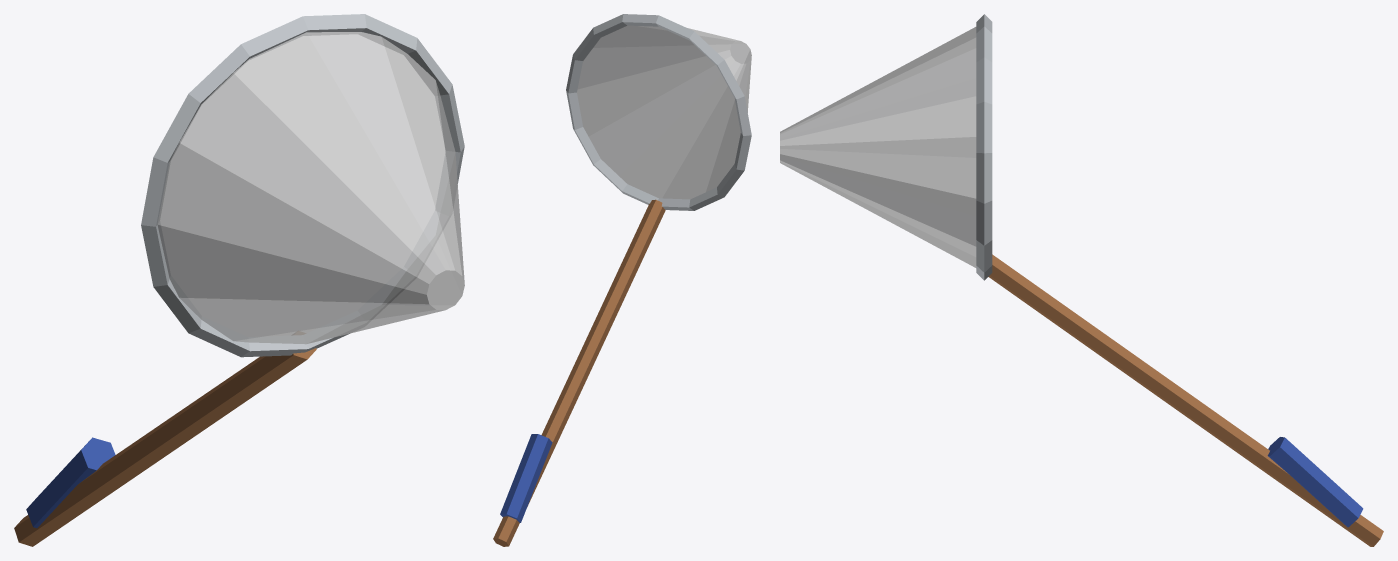
Rendered from ButterflyNet.fbx.
The picture shows the model from 3 angles, left to right: view 1: azimuth 30°, elevation 25°; view 2: azimuth 150°, elevation 25°; view 3: azimuth 270°, elevation 25°; orthographic projection. The views are drawn at different scales.
Parts seen in each view (by area): view 1: Net, Hoop, Handle, Grip; view 2: Net, Hoop, Handle, Grip; view 3: Net, Handle, Hoop, Grip.
Boxes of the visible parts, x1,y1,x2,y2 form: Net: (157, 32, 464, 344); Hoop: (141, 14, 464, 357); Handle: (14, 348, 316, 546); Grip: (26, 437, 115, 528); Net: (577, 25, 751, 199); Hoop: (566, 14, 751, 210); Handle: (493, 199, 665, 546); Grip: (500, 434, 552, 522); Net: (780, 27, 976, 267); Handle: (988, 254, 1383, 546); Hoop: (976, 14, 992, 280); Grip: (1267, 437, 1363, 527).
Bounding box in the file's own units: 1.7 × 3.66 × 3.84.
